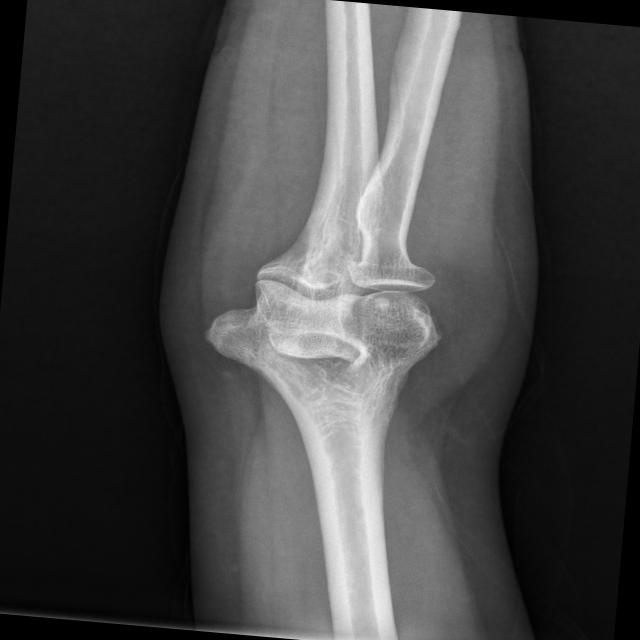Knee: (198, 228, 450, 424)
